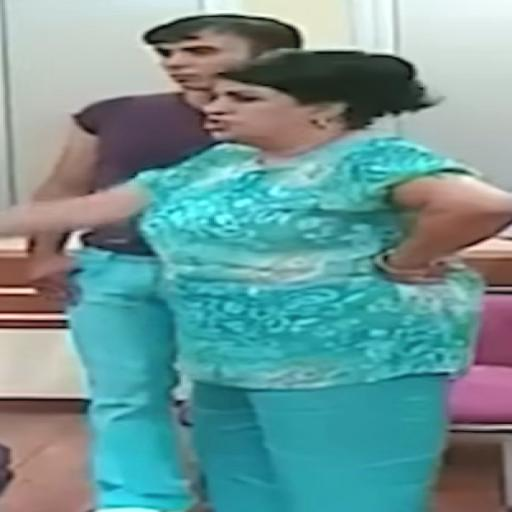jannet: (204, 51, 435, 156)
